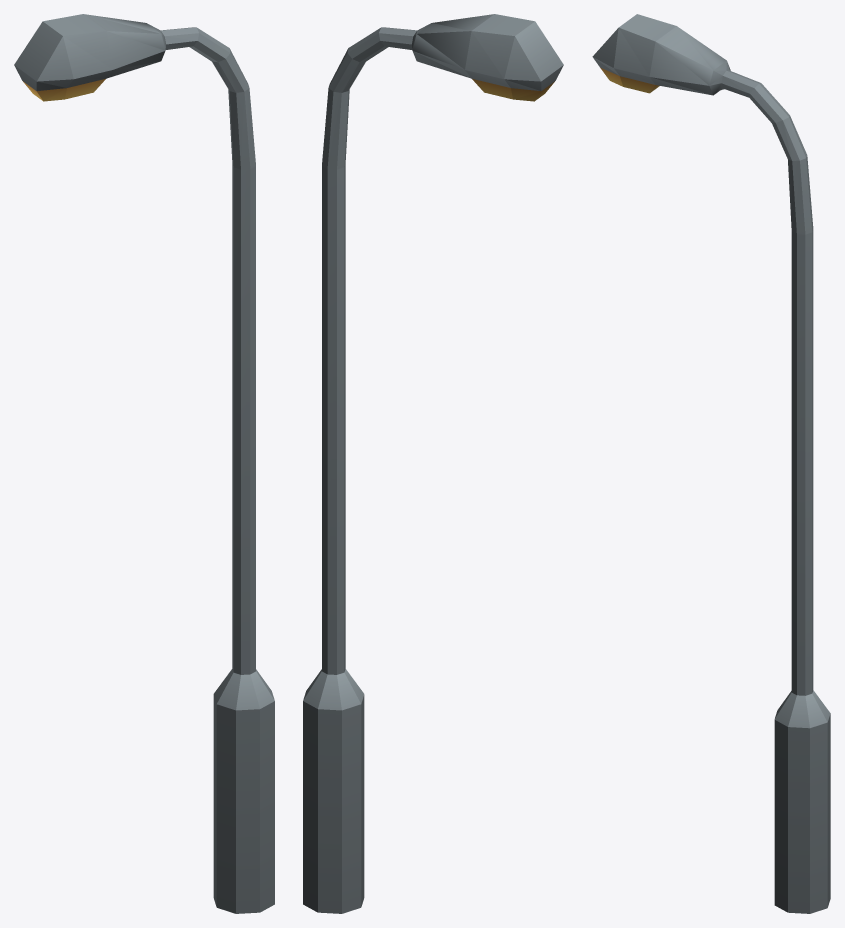
The model's file is kyc_streetlight.fbx.
The picture shows the model from 3 angles, left to right: view 1: azimuth 30°, elevation 25°; view 2: azimuth 150°, elevation 25°; view 3: azimuth 330°, elevation 25°; orthographic projection. The views are drawn at different scales.
Visible parts, largest first — view 1: kyc_streetlight; view 2: kyc_streetlight; view 3: kyc_streetlight.
Boxes of the visible parts, <box> form: kyc_streetlight: <box>14,14,274,913</box>; kyc_streetlight: <box>303,14,563,913</box>; kyc_streetlight: <box>592,14,830,913</box>.
Bounding box in the file's own units: 1.57 × 5.6 × 0.4027.
